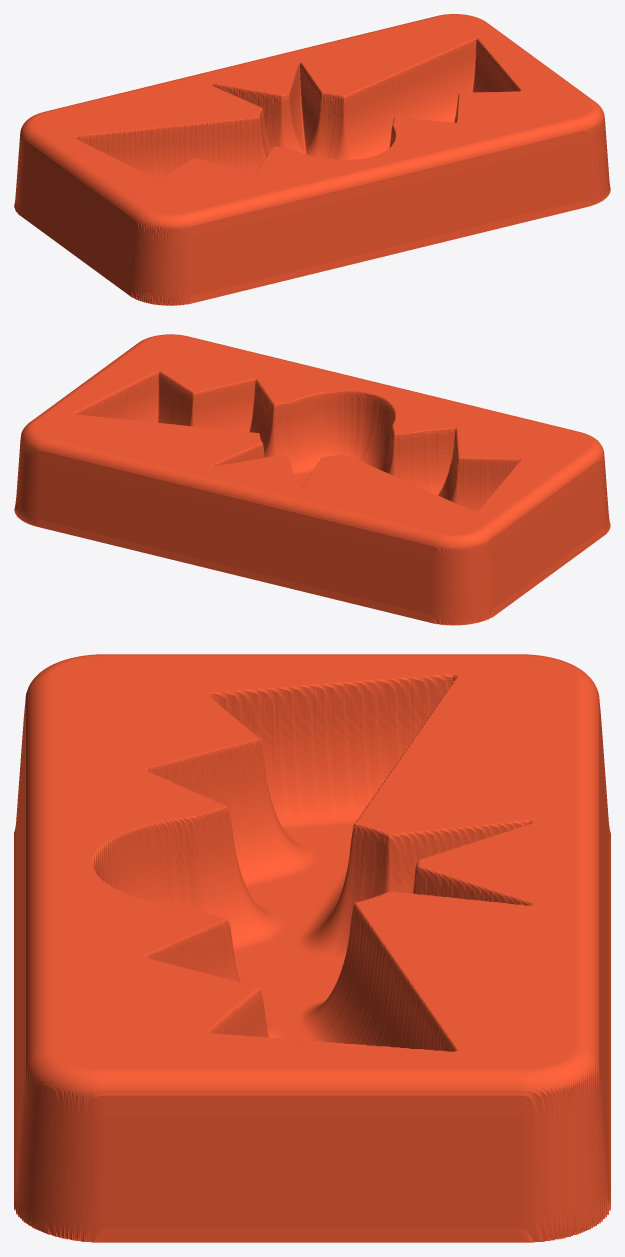
File: mold.glb
The picture shows the model from 3 angles, top to bottom: view 1: azimuth 30°, elevation 25°; view 2: azimuth 150°, elevation 25°; view 3: azimuth 270°, elevation 25°; orthographic projection. The views are drawn at different scales.
Visible parts, largest first — view 1: geometry_0; view 2: geometry_0; view 3: geometry_0.
Boxes of the visible parts, x1=… form: geometry_0: x1=14, y1=14, x2=610, y2=305; geometry_0: x1=14, y1=334, x2=610, y2=625; geometry_0: x1=14, y1=654, x2=610, y2=1242.
Size of the model in its own units: 0.105 by 0.0175 by 0.0598.
